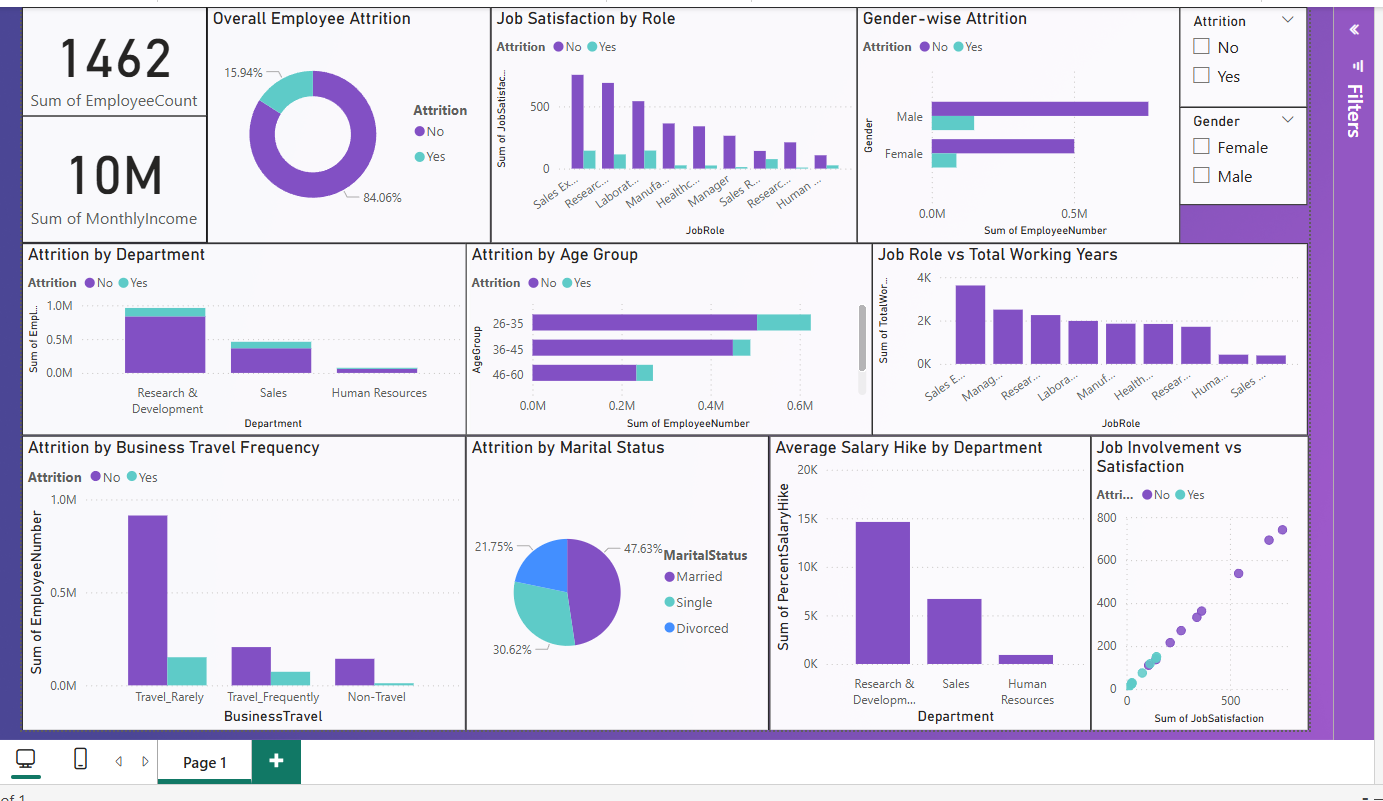

The page's visual inventory and layout, read from the dashboard file:
{"tool":"powerbi","page":{"name":"Page 1","canvas":[1280,720],"ordinal":0},"visuals":[{"type":"donutChart","title":"Overall Employee Attrition","fields":{"Category":["HR_Analytics_Cleaned.Attrition"],"Y":["Sum(HR_Analytics_Cleaned.EmployeeCount)"]},"box":[183.8,0,282.5,235],"z":0},{"type":"columnChart","title":"Attrition by Department","fields":{"Category":["HR_Analytics_Cleaned.Department"],"Y":["Sum(HR_Analytics_Cleaned.EmployeeNumber)"],"Series":["HR_Analytics_Cleaned.Attrition"]},"box":[0,235,446.2,191.2],"z":1000},{"type":"clusteredBarChart","title":"Gender-wise Attrition","fields":{"Series":["HR_Analytics_Cleaned.Attrition"],"Category":["HR_Analytics_Cleaned.Gender"],"Y":["Sum(HR_Analytics_Cleaned.EmployeeNumber)"]},"box":[831.2,0,321.2,235],"z":2000},{"type":"clusteredColumnChart","title":"Job Satisfaction by Role","fields":{"Category":["HR_Analytics_Cleaned.JobRole"],"Y":["Sum(HR_Analytics_Cleaned.JobSatisfaction)"],"Series":["HR_Analytics_Cleaned.Attrition"]},"box":[466.2,0,365,235],"z":3000},{"type":"barChart","title":"Attrition by Age Group","fields":{"Category":["HR_Analytics_Cleaned.AgeGroup"],"Y":["Sum(HR_Analytics_Cleaned.EmployeeNumber)"],"Series":["HR_Analytics_Cleaned.Attrition"]},"box":[441.2,235,405,191.2],"z":4000},{"type":"slicer","fields":{"Values":["HR_Analytics_Cleaned.Attrition"]},"box":[1152.5,0,127.5,100],"z":5000},{"type":"slicer","fields":{"Values":["HR_Analytics_Cleaned.Gender"]},"box":[1152.5,100,127.5,97.5],"z":6000},{"type":"clusteredColumnChart","title":"Attrition by Business Travel Frequency","fields":{"Category":["HR_Analytics_Cleaned.BusinessTravel"],"Y":["Sum(HR_Analytics_Cleaned.EmployeeNumber)"],"Series":["HR_Analytics_Cleaned.Attrition"]},"box":[0,426.7,441.7,293.3],"z":8001},{"type":"pieChart","title":"Attrition by Marital Status","fields":{"Category":["HR_Analytics_Cleaned.MaritalStatus"],"Y":["Sum(HR_Analytics_Cleaned.EmployeeNumber)"]},"box":[441.7,426.7,301.7,293.3],"z":8002},{"type":"clusteredColumnChart","title":"Job Role vs Total Working Years","fields":{"Category":["HR_Analytics_Cleaned.JobRole"],"Y":["Sum(HR_Analytics_Cleaned.TotalWorkingYears)"]},"box":[846.2,235,433.8,191.2],"z":8003},{"type":"scatterChart","title":"Job Involvement vs Satisfaction","fields":{"Series":["HR_Analytics_Cleaned.Attrition"],"X":["Sum(HR_Analytics_Cleaned.JobSatisfaction)"],"Y":["Sum(HR_Analytics_Cleaned.JobInvolvement)"],"Category":["HR_Analytics_Cleaned.JobRole"]},"box":[1063.3,426.7,216.7,293.3],"z":8004},{"type":"clusteredColumnChart","title":"Average Salary Hike by Department","fields":{"Category":["HR_Analytics_Cleaned.Department"],"Y":["Sum(HR_Analytics_Cleaned.PercentSalaryHike)"]},"box":[743.3,426.7,320,293.3],"z":8005},{"type":"card","fields":{"Values":["Sum(HR_Analytics_Cleaned.EmployeeCount)"]},"box":[0,0,183.8,108.8],"z":8006},{"type":"card","fields":{"Values":["Sum(HR_Analytics_Cleaned.MonthlyIncome)"]},"box":[0,108.8,183.8,126.2],"z":8007}]}

Visuals, with their boxes on the page's 1280x720 design canvas (x1, y1, x2, y2). These are canvas units, not pixel positions in the 1383x801 screenshot, which may show the page scaled, cropped or inside an application window:
"Overall Employee Attrition" donutChart: 184/0/466/235
"Attrition by Department" columnChart: 0/235/446/426
"Gender-wise Attrition" clusteredBarChart: 831/0/1152/235
"Job Satisfaction by Role" clusteredColumnChart: 466/0/831/235
"Attrition by Age Group" barChart: 441/235/846/426
slicer - HR_Analytics_Cleaned.Attrition: 1152/0/1280/100
slicer - HR_Analytics_Cleaned.Gender: 1152/100/1280/198
"Attrition by Business Travel Frequency" clusteredColumnChart: 0/427/442/720
"Attrition by Marital Status" pieChart: 442/427/743/720
"Job Role vs Total Working Years" clusteredColumnChart: 846/235/1280/426
"Job Involvement vs Satisfaction" scatterChart: 1063/427/1280/720
"Average Salary Hike by Department" clusteredColumnChart: 743/427/1063/720
card - Sum(HR_Analytics_Cleaned.EmployeeCount): 0/0/184/109
card - Sum(HR_Analytics_Cleaned.MonthlyIncome): 0/109/184/235
